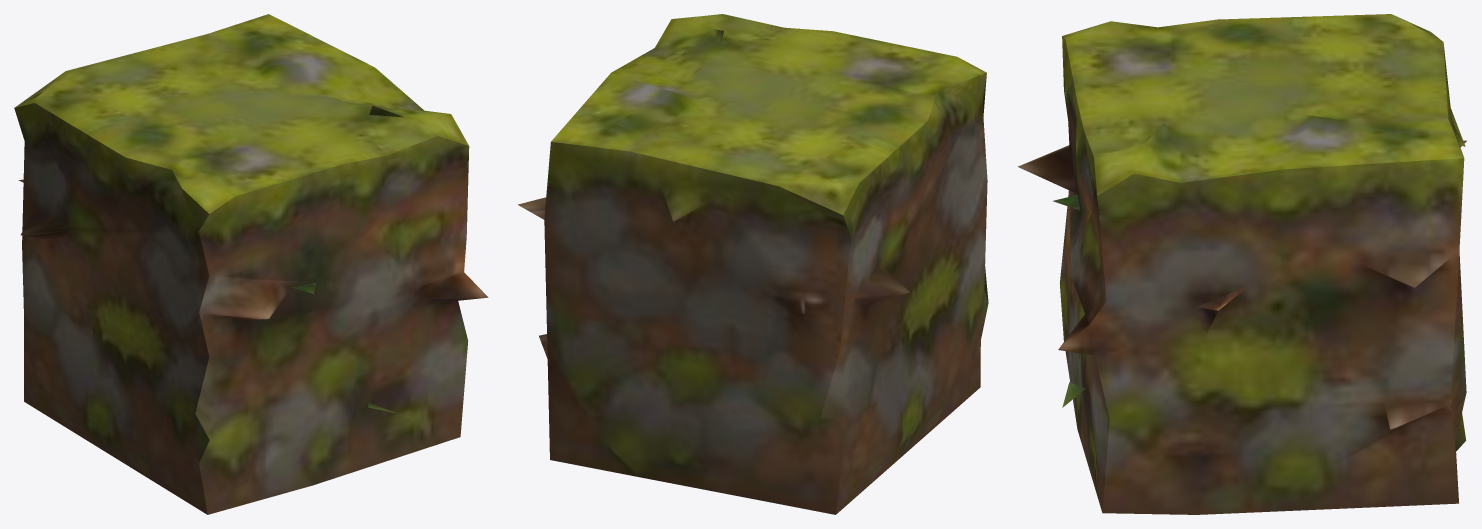
The model's file is b_racines_mur_3_lo.glb.
3 renders of one model, left to right at view 1: azimuth 30°, elevation 25°; view 2: azimuth 150°, elevation 25°; view 3: azimuth 270°, elevation 25°, orthographic. The views are drawn at different scales.
Parts seen in each view (by area): view 1: geometry_0; view 2: geometry_0; view 3: geometry_0.
Boxes of the visible parts, x1,y1,x2,y2 form: geometry_0: (14,14,488,514); geometry_0: (518,14,988,514); geometry_0: (1017,14,1466,514).
Bounding box in the file's own units: 1 × 0.8867 × 1.
Materials: 1 (1 with a texture image).
